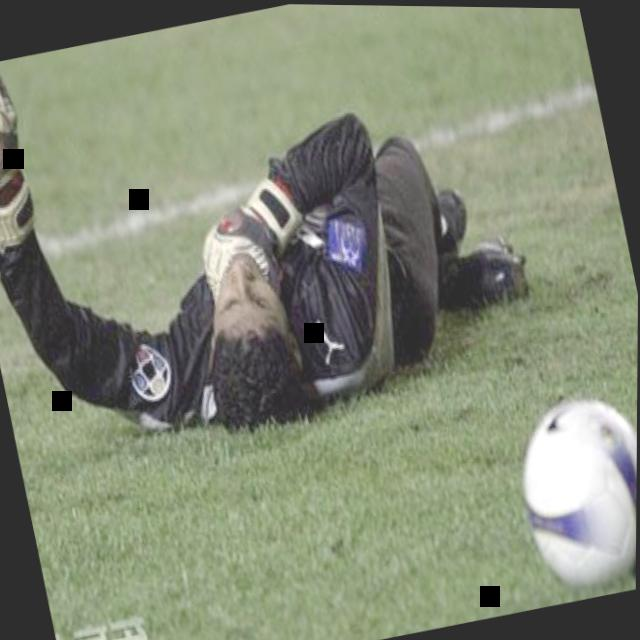Fall-Detected: (0, 0, 562, 479)
